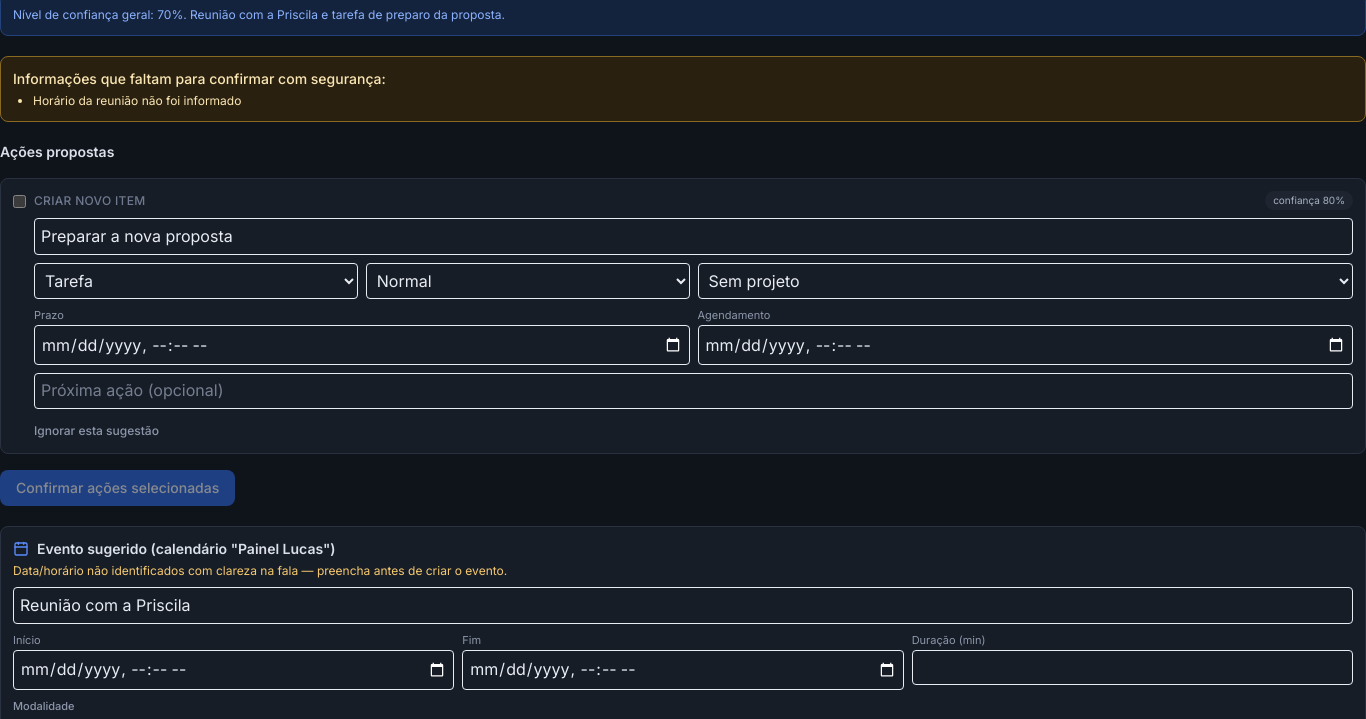
AudioCaptureReview — criação e resultado › erro do servidor não vaza mensagem técnica (sem "HTTP", sem status numérico bruto)
The width and height of the screenshot is (1366, 719).
Type "2026-08-05T10:00" into the field labelled "Início" at [234, 670], box [13,650,454,690]
(page scrolled)
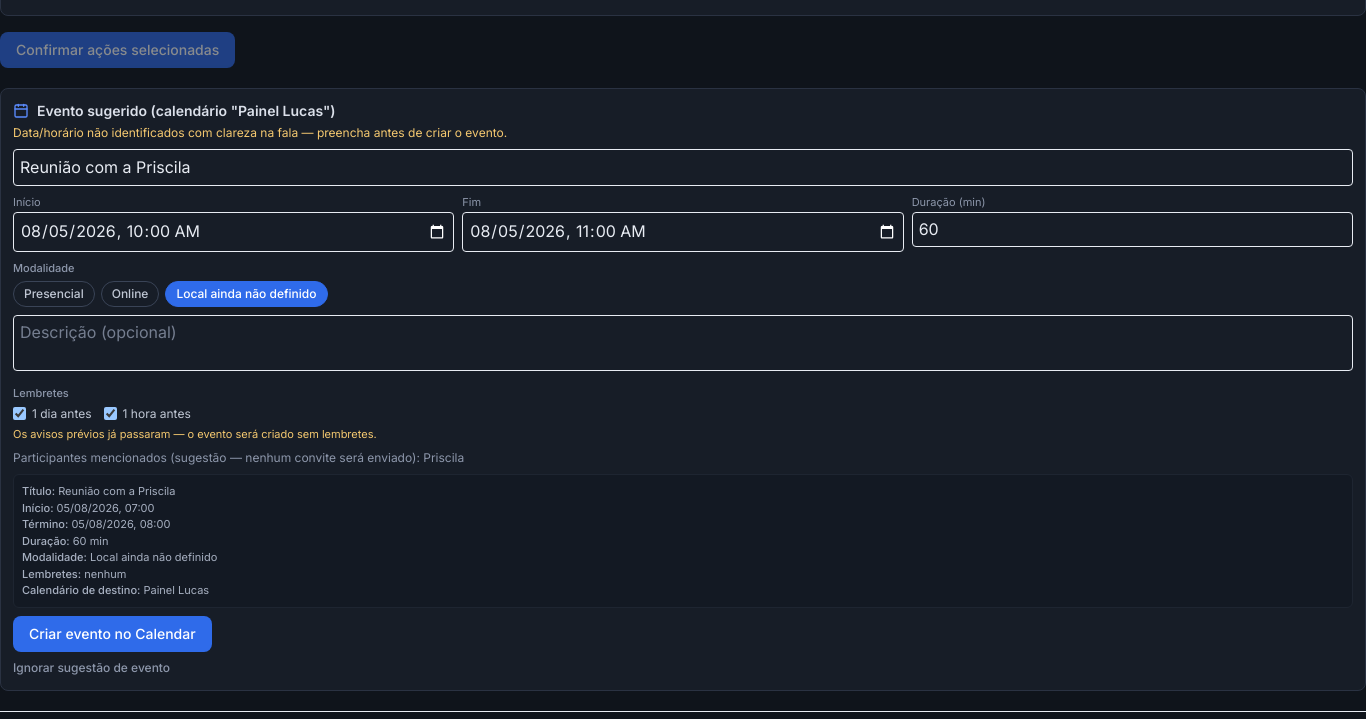
Click the button "Criar evento no Calendar" at [112, 634], box [13,616,212,652]
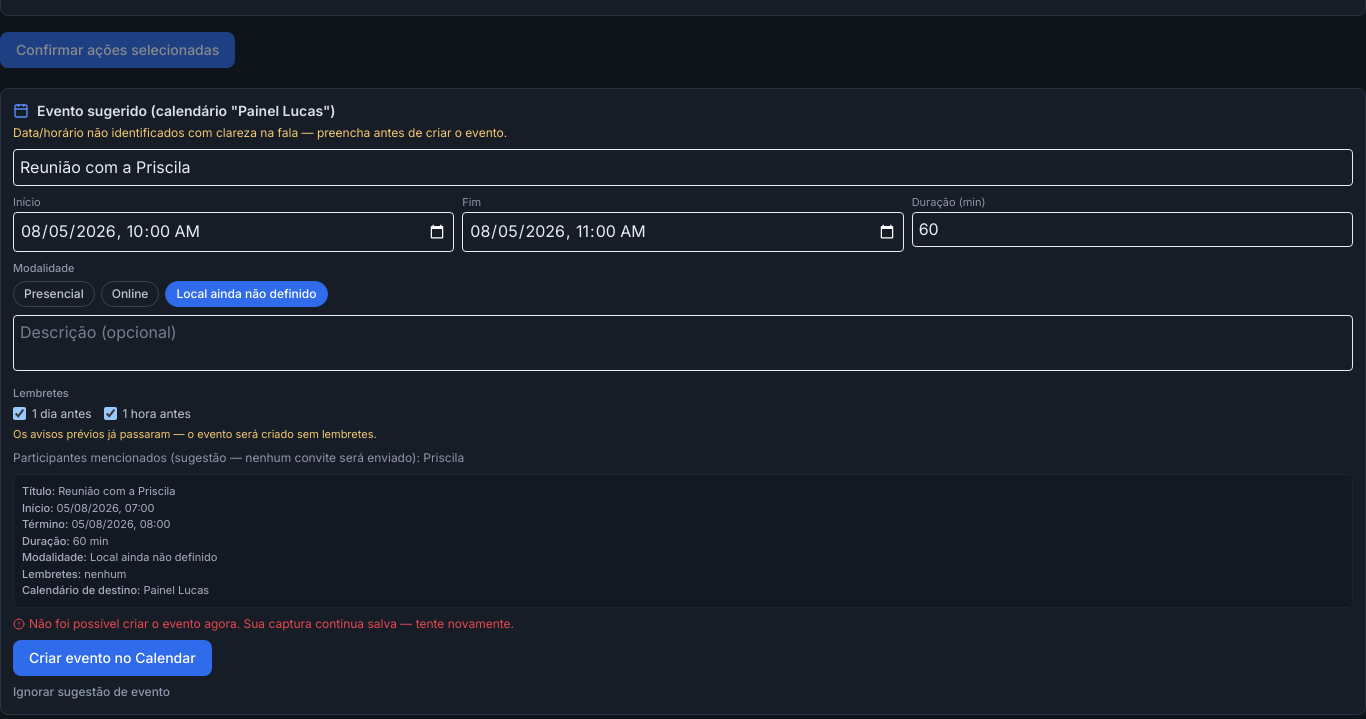
Result: the text "Não foi possível criar o evento agora. Sua captura continua salva — tente novamente." is shown at [29,616,514,631]
